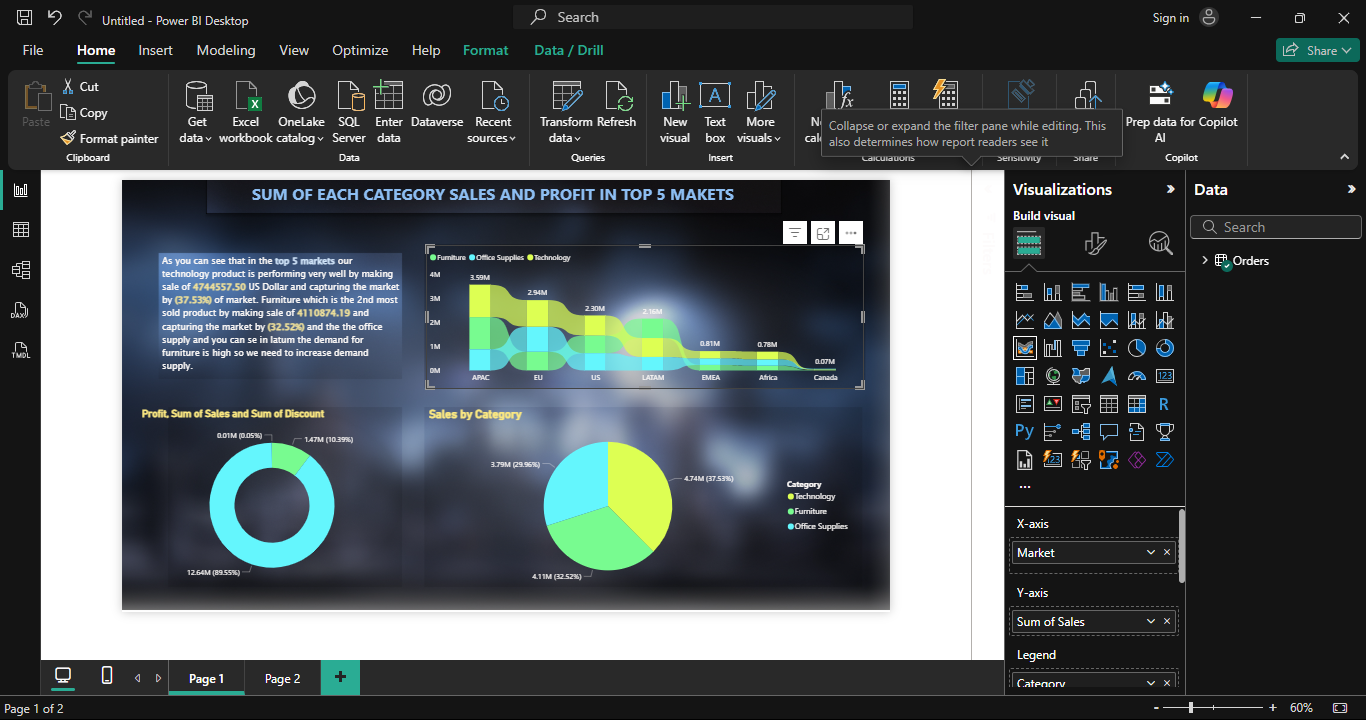

Layout of this report page (visuals, bound fields, positions):
{"tool":"powerbi","page":{"name":"Page 1","canvas":[1280,720],"ordinal":0},"visuals":[{"type":"ribbonChart","fields":{"Category":["Orders.Market"],"Y":["Sum(Orders.Sales)"],"Series":["Orders.Category"]},"box":[506.7,108.3,730,240],"z":0},{"type":"donutChart","title":"Profit, Sum of Sales and Sum of Discount","fields":{"Y":["Sum(Orders.Profit)","Sum(Orders.Sales)","Sum(Orders.Discount)"]},"box":[28.3,378.3,443.3,308.3],"z":1000},{"type":"pieChart","title":"Sales by Category","fields":{"Category":["Orders.Category"],"Y":["Sum(Orders.Sales)"]},"box":[506.7,378.3,716.7,308.3],"z":2000},{"type":"textbox","box":[61.7,118.3,410,213.3],"z":3000},{"type":"textbox","box":[143.3,0,950,58.3],"z":4000}]}

Visuals, with their boxes on the page's 1280x720 design canvas (x1, y1, x2, y2). These are canvas units, not pixel positions in the 1366x720 screenshot, which may show the page scaled, cropped or inside an application window:
ribbonChart - Orders.Market x Sum(Orders.Sales): (507,108,1237,348)
"Profit, Sum of Sales and Sum of Discount" donutChart: (28,378,472,687)
"Sales by Category" pieChart: (507,378,1223,687)
textbox: (62,118,472,332)
textbox: (143,0,1093,58)
